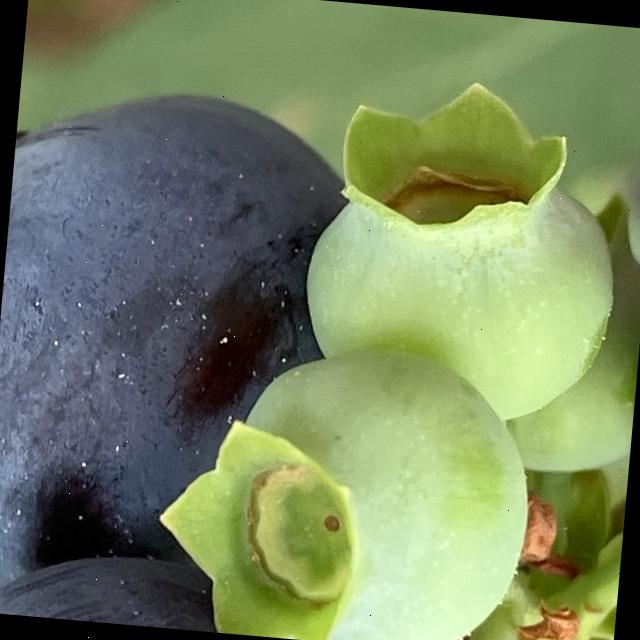Blueberries: (145, 319, 548, 640)
